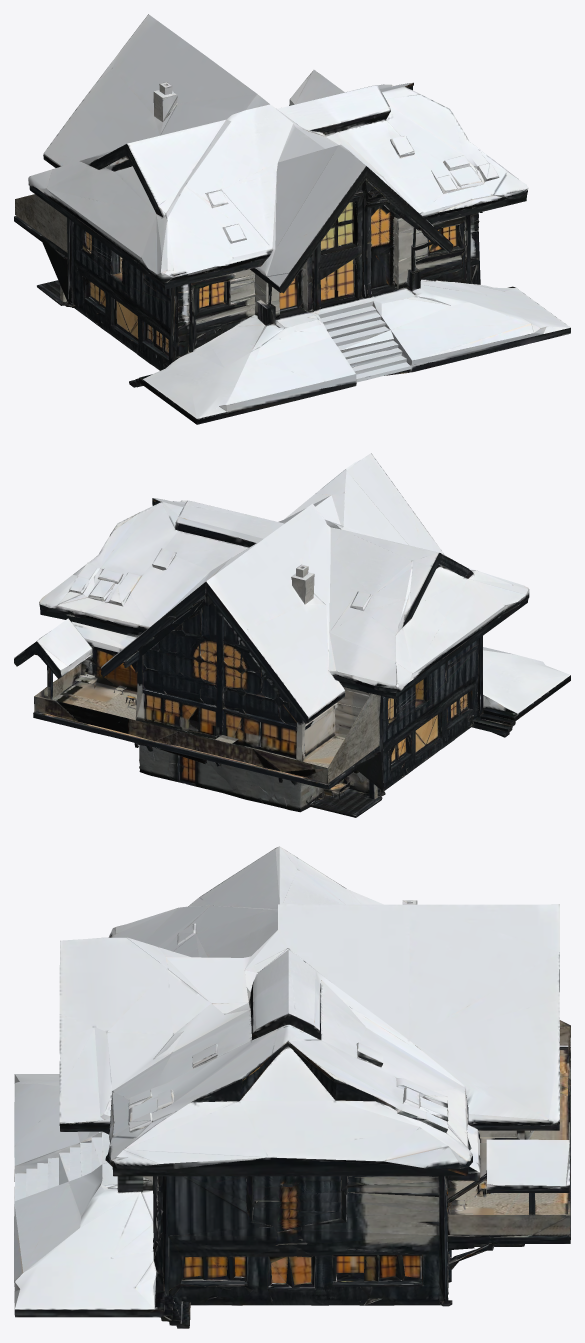
The model's file is chalet_modern.glb.
The picture shows the model from 3 angles, top to bottom: view 1: azimuth 30°, elevation 25°; view 2: azimuth 150°, elevation 25°; view 3: azimuth 270°, elevation 25°; orthographic projection. The views are drawn at different scales.
Size of the model in its own units: 1.9 by 1.09 by 1.9.
Materials: 1 (1 with a texture image).
